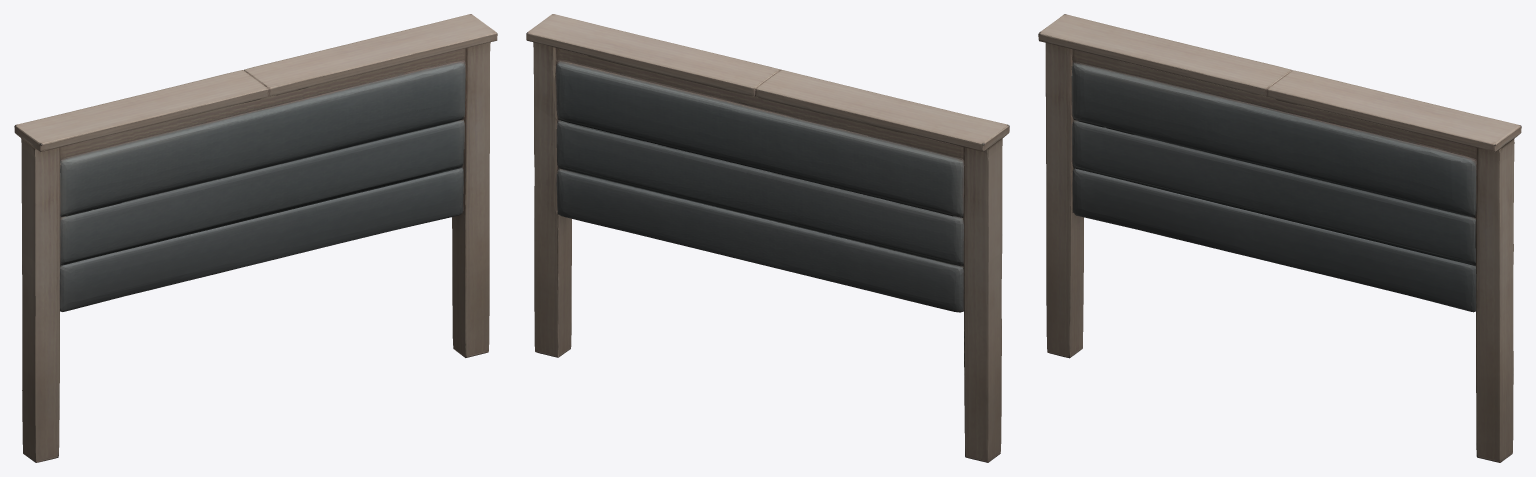
The model's file is 8840_empire_headboard_baf.glb.
3 views of the same model, side by side, from view 1: azimuth 30°, elevation 25°; view 2: azimuth 150°, elevation 25°; view 3: azimuth 330°, elevation 25° (orthographic).
Visible parts, largest first — view 1: world; view 2: world; view 3: world.
Boxes of the visible parts, box(x1,y1,x2,y2) form: world: box(14, 14, 497, 462); world: box(526, 14, 1009, 462); world: box(1038, 14, 1521, 462).
Bounding box in the file's own units: 1 × 0.6785 × 0.1007.
1 material, 1 textured.
